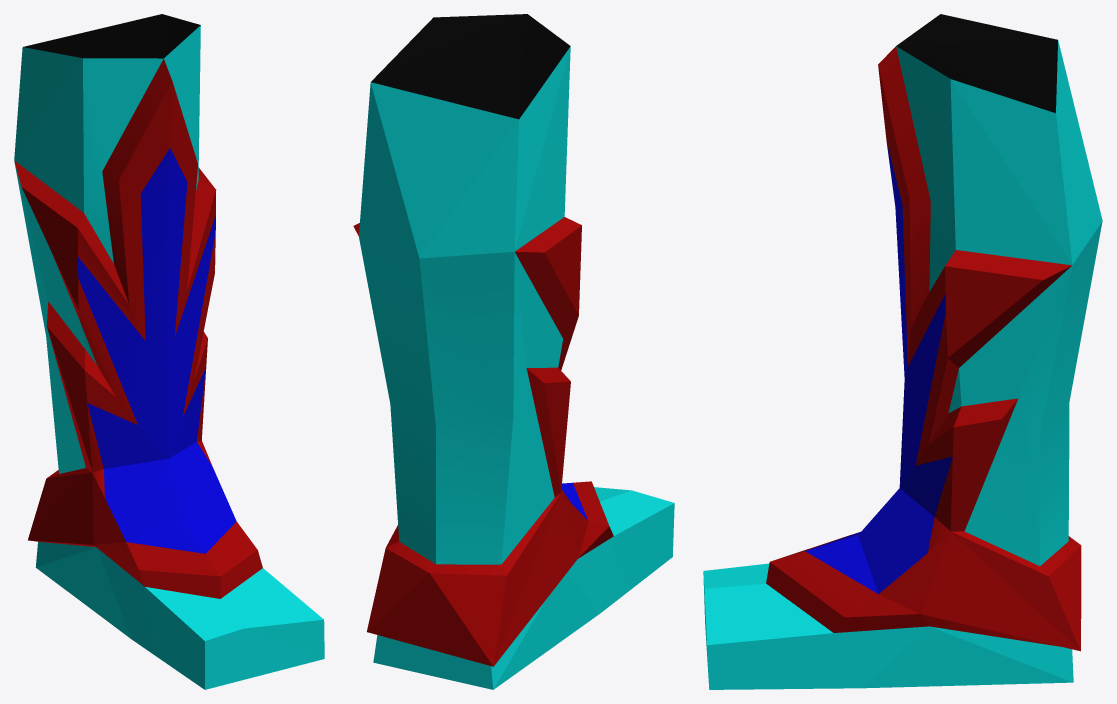
Rendered from Chr_LegRight_Male_Static_12.fbx.
3 views of the same model, side by side, from view 1: azimuth 30°, elevation 25°; view 2: azimuth 150°, elevation 25°; view 3: azimuth 270°, elevation 25° (orthographic). The views are drawn at different scales.
Parts seen in each view (by area): view 1: Chr_LegRight_Male_12; view 2: Chr_LegRight_Male_12; view 3: Chr_LegRight_Male_12.
Part boxes in pixels (x1,y1,x2,y2): Chr_LegRight_Male_12: (14,14,324,689); Chr_LegRight_Male_12: (353,14,674,689); Chr_LegRight_Male_12: (703,14,1102,689).
Bounding box in the file's own units: 13.14 × 40.4 × 24.2.
